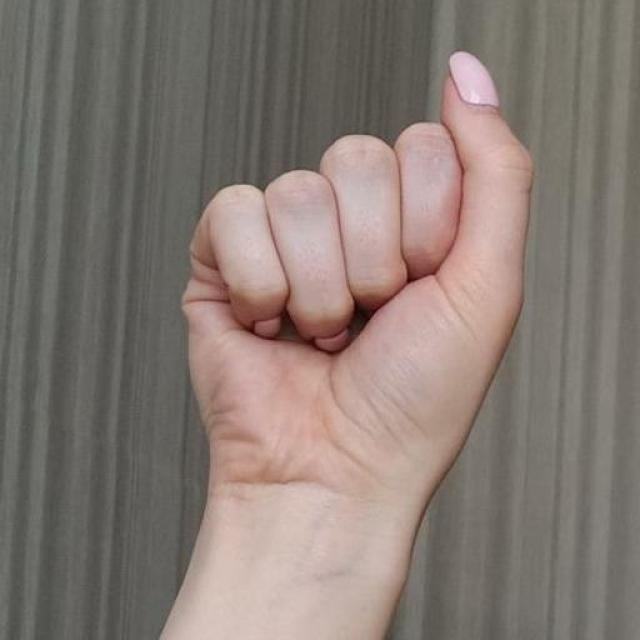hand: (179, 49, 535, 520)
